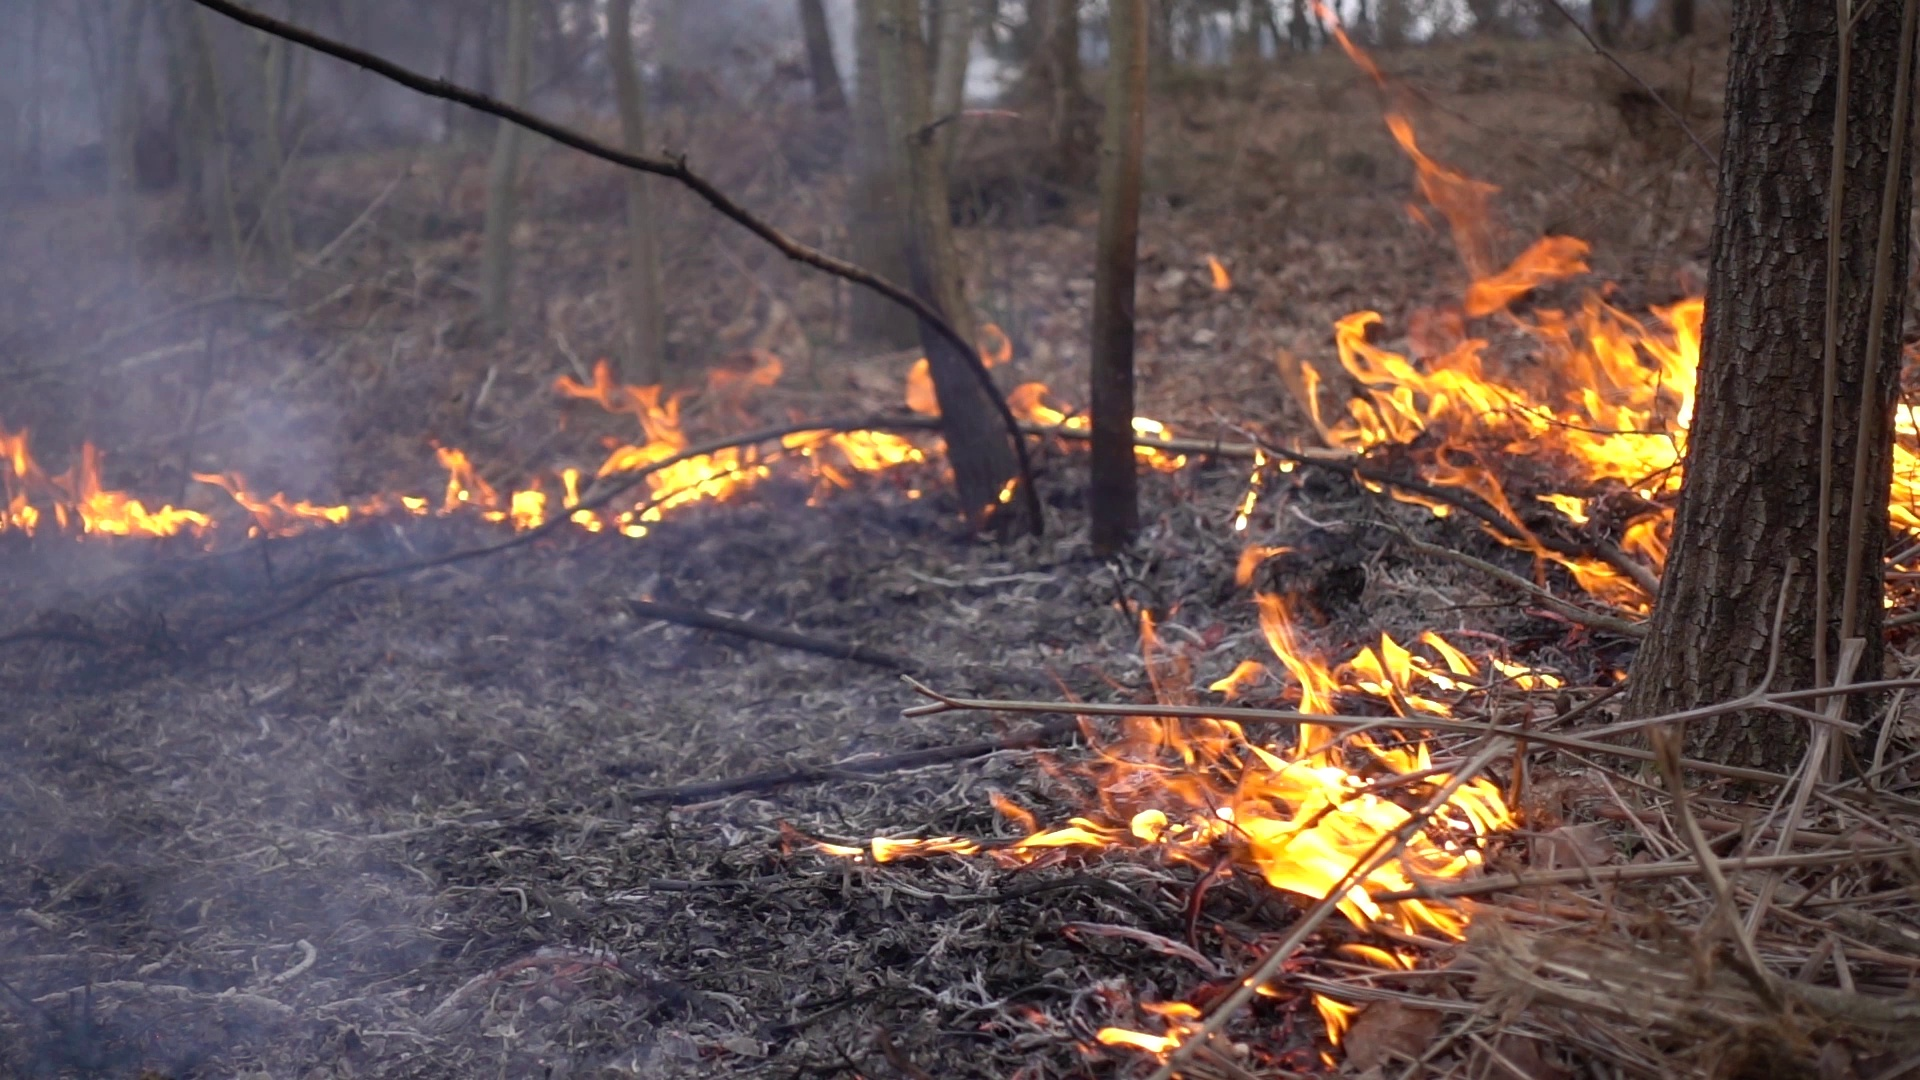fire: (1320, 258, 1710, 597), (1116, 622, 1513, 942), (593, 409, 761, 518), (1, 440, 193, 535), (435, 452, 537, 531), (832, 429, 907, 469), (1894, 440, 1920, 529)
